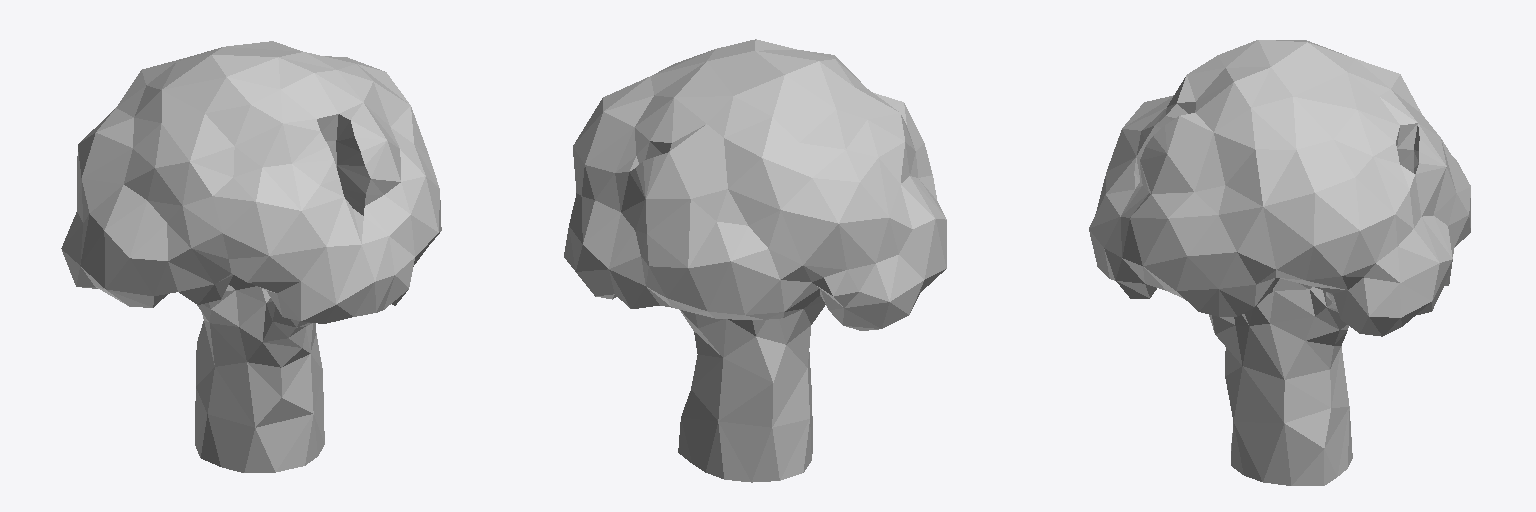
Rendered from simplified.obj.
The picture shows the model from 3 angles: view 1: azimuth 30°, elevation 25°; view 2: azimuth 150°, elevation 25°; view 3: azimuth 270°, elevation 25°; orthographic projection.
Bounding box in the file's own units: 0.062 × 0.0709 × 0.0618.